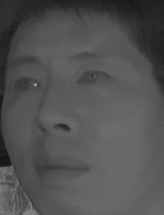eye: (74, 65, 115, 89), (11, 74, 44, 96)
mouth: (28, 147, 92, 186)
